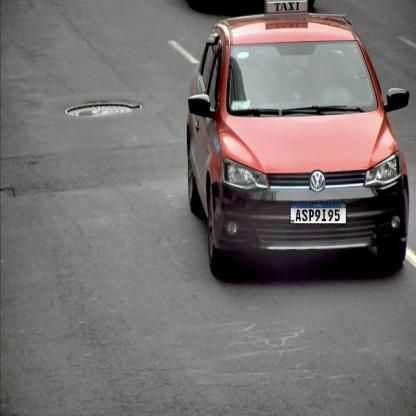PlacaM: (289, 201, 346, 224)
